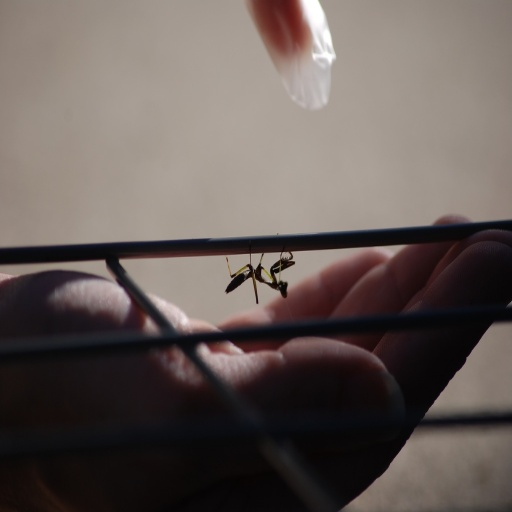hand: (0, 211, 511, 510), (249, 0, 317, 58)
